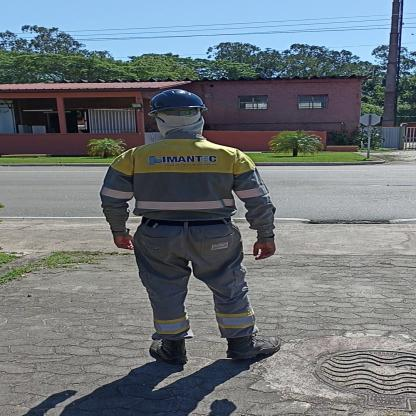Balaclava: (152, 110, 206, 138)
Capacete: (148, 88, 202, 111)
